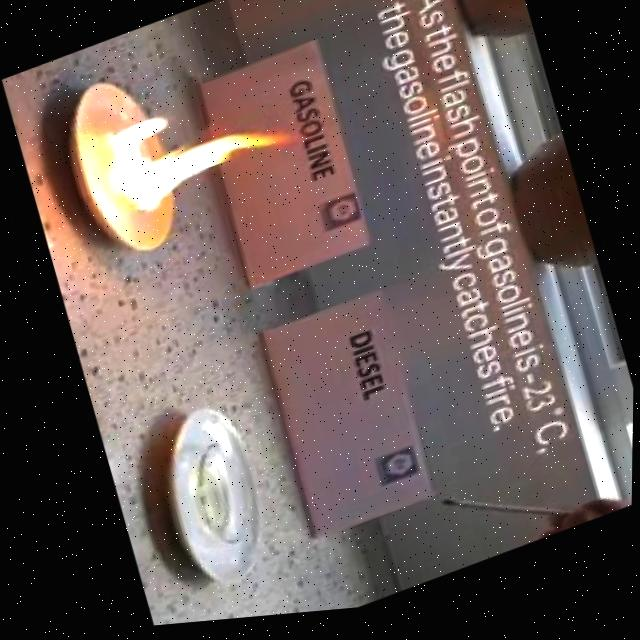Fire: (88, 64, 310, 233)
